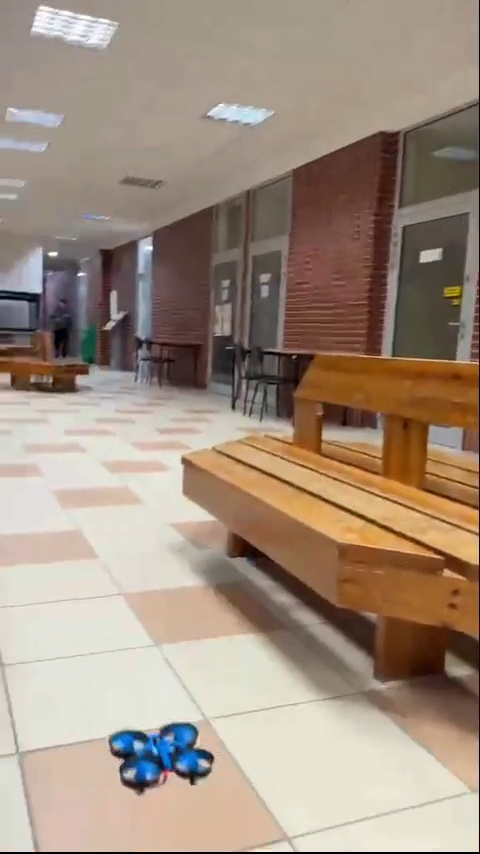drone: (110, 722, 212, 788)
no vest: (47, 294, 77, 358)
